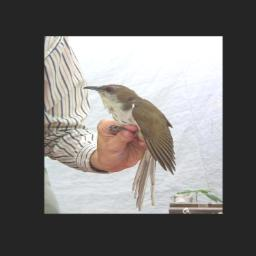Cuckoo: (82, 83, 175, 209)
